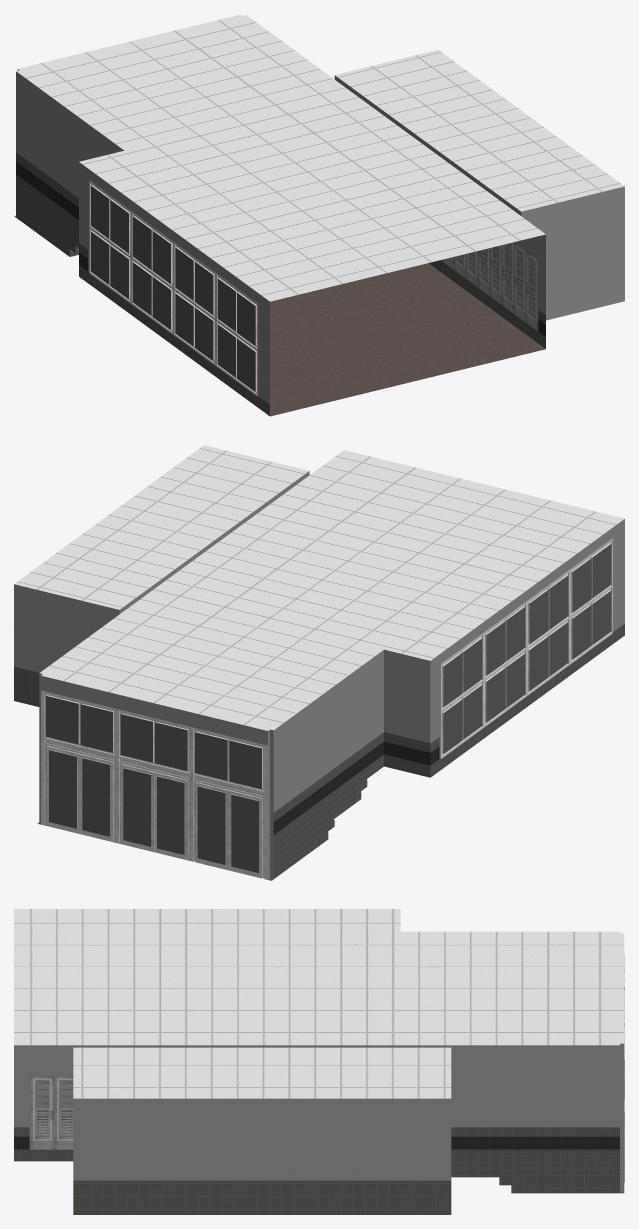
Rendered from lobby.glb.
3 views of the same model, one above another, from view 1: azimuth 30°, elevation 25°; view 2: azimuth 150°, elevation 25°; view 3: azimuth 270°, elevation 25° (orthographic).
Visible parts, largest first — view 1: Material2 (×8); view 2: Material2 (×7); view 3: Material2 (×5).
Boxes of the visible parts, x1,y1,x2,y2 form: Material2 (×8): (14, 14, 624, 416); Material2 (×7): (14, 445, 624, 879); Material2 (×5): (14, 909, 624, 1214).
Bounding box in the file's own units: 421 × 153 × 572.
16 materials, 13 textured.
